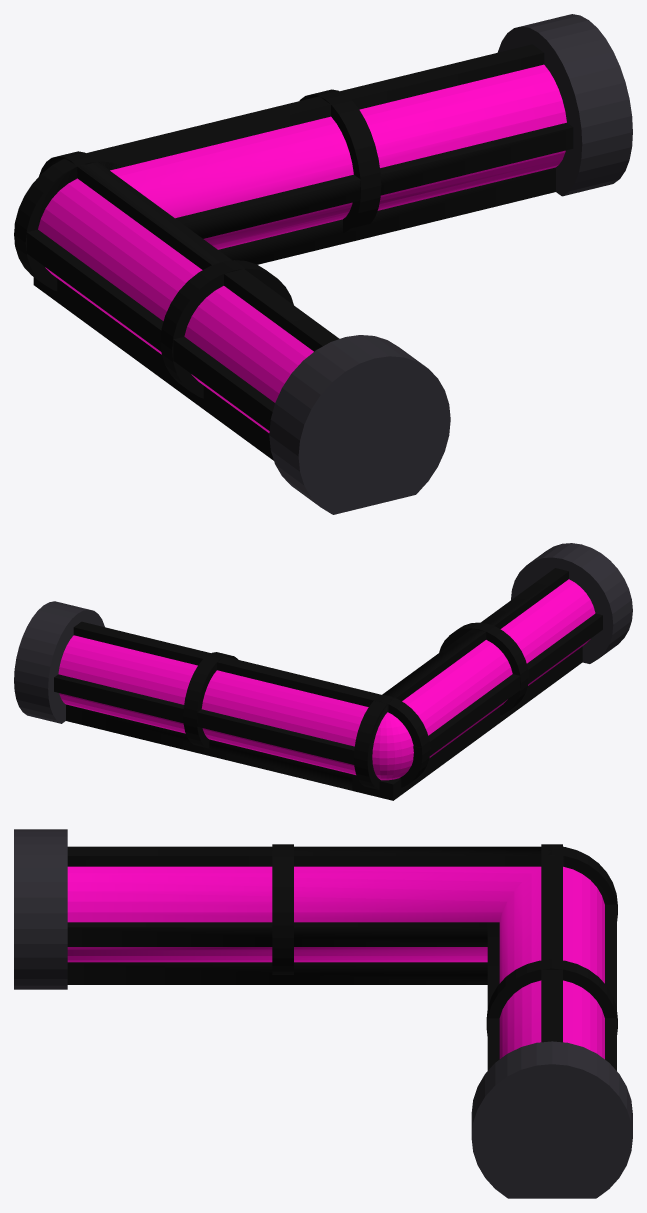
Rendered from powerline_edge.obj.
3 views of the same model, one above another, from view 1: azimuth 30°, elevation 25°; view 2: azimuth 150°, elevation 25°; view 3: azimuth 270°, elevation 25° (orthographic). The views are drawn at different scales.
Visible parts, largest first — view 1: Cylinder.001, Cylinder.004, Cube.001_Cube.001, Cube.003_Cube.001, Cylinder.002; view 2: Cylinder.001, Cube.001_Cube.001, Cylinder.004, Cube.003_Cube.001, Cylinder.002; view 3: Cylinder.001, Cylinder.004, Cube.001_Cube.001, Cube.003_Cube.001, Cylinder.002.
Boxes of the visible parts, x1,y1,x2,y2 form: Cylinder.001: (38,64,566,432); Cylinder.004: (269,14,632,514); Cube.001_Cube.001: (14,44,573,430); Cube.003_Cube.001: (33,167,555,460); Cylinder.002: (14,89,381,398); Cylinder.001: (58,579,595,780); Cube.001_Cube.001: (54,568,602,764); Cylinder.004: (14,543,632,723); Cube.003_Cube.001: (66,646,582,800); Cylinder.002: (183,622,528,789); Cylinder.001: (67,866,604,1059); Cylinder.004: (14,829,632,1198); Cube.001_Cube.001: (67,846,616,1070); Cube.003_Cube.001: (67,962,487,984); Cylinder.002: (272,844,617,1035).
Bounding box in the file's own units: 5.75 × 1.38 × 5.75.
